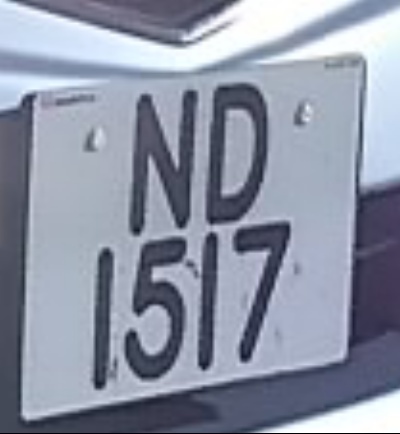1: (74, 231, 131, 403), (190, 219, 234, 380)
5: (118, 228, 194, 394)
7: (219, 207, 297, 376)
D: (194, 61, 284, 235)
N: (116, 62, 207, 239)
